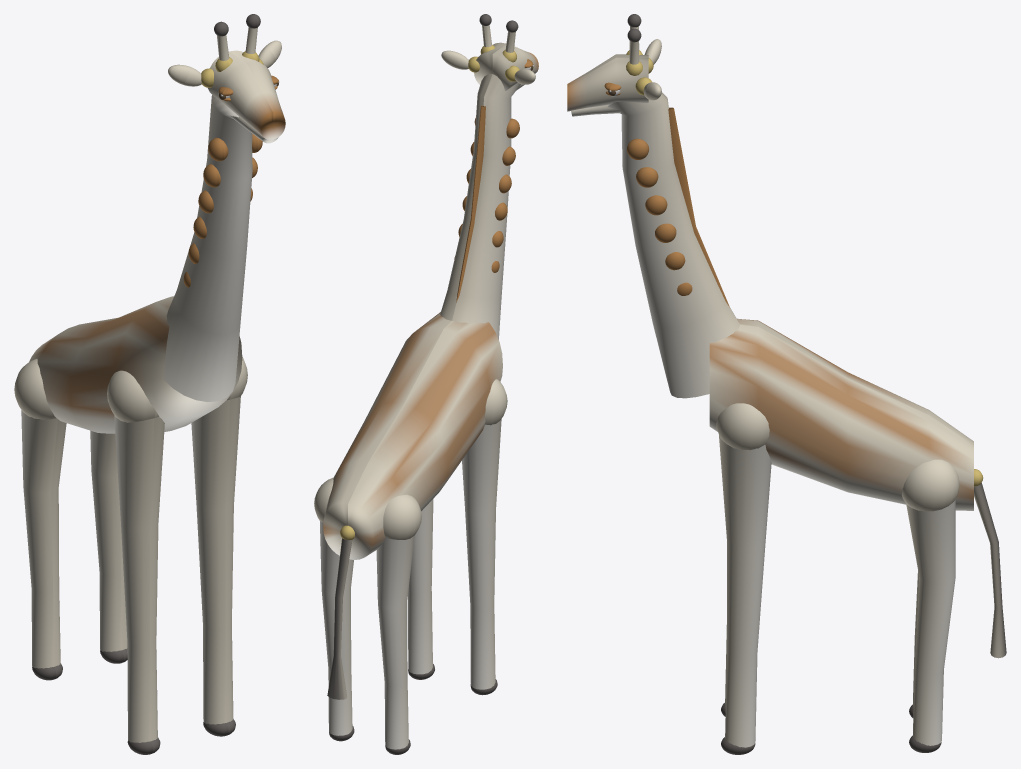
The model's file is giraffe.glb.
3 views of the same model, side by side, from view 1: azimuth 30°, elevation 25°; view 2: azimuth 150°, elevation 25°; view 3: azimuth 270°, elevation 25° (orthographic). The views are drawn at different scales.
Parts seen in each view (by area): view 1: NeckHead, Leg_FL, Body, Leg_FR, Leg_RL, Leg_RR, Ear_L, Horn_L, Horn_R; view 2: Body, NeckHead, Leg_FL, Leg_RL, Leg_RR, Leg_FR, Tail, Ear_R, Ear_L, Horn_L; view 3: Body, NeckHead, Leg_FR, Leg_RR, Tail.
Part boxes in pixels (box(x1,y1,x2,y2)): NeckHead: box(163, 50, 285, 401); Leg_FL: box(107, 370, 164, 754); Body: box(29, 296, 242, 433); Leg_FR: box(191, 357, 247, 736); Leg_RL: box(14, 359, 66, 680); Leg_RR: box(90, 430, 127, 663); Ear_L: box(168, 64, 213, 87); Horn_L: box(214, 21, 232, 71); Horn_R: box(242, 14, 260, 61); Body: box(323, 312, 502, 559); NeckHead: box(440, 42, 538, 339); Leg_FL: box(462, 379, 507, 695); Leg_RL: box(376, 494, 421, 754); Leg_RR: box(314, 477, 354, 741); Leg_FR: box(408, 499, 434, 679); Tail: box(327, 525, 354, 699); Ear_R: box(441, 50, 479, 72); Ear_L: box(505, 65, 535, 84); Horn_L: box(502, 20, 518, 62); Body: box(709, 318, 973, 510); NeckHead: box(567, 54, 739, 398); Leg_FR: box(716, 403, 771, 754); Leg_RR: box(902, 459, 959, 752); Tail: box(974, 469, 1006, 658).
Size of the model in its own units: 0.6954 by 3.87 by 2.16.
